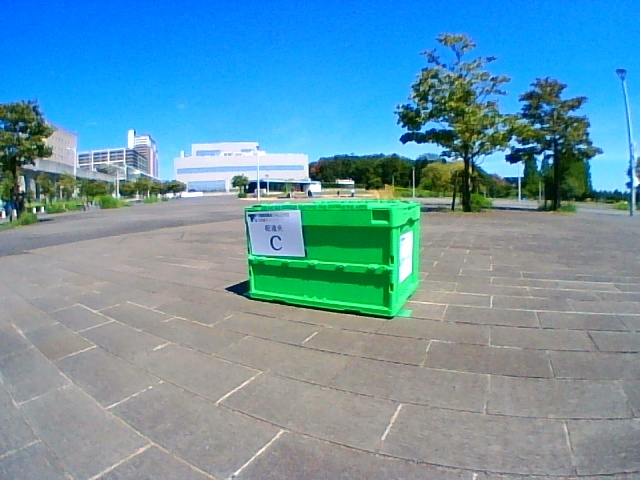green_box: (245, 202, 420, 317)
tag_c: (253, 214, 300, 255)
